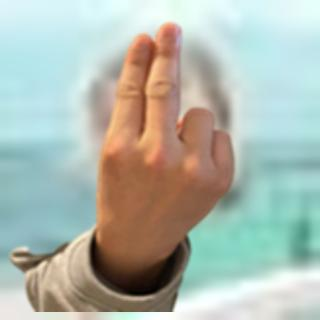DHAVE: (89, 14, 241, 266)
